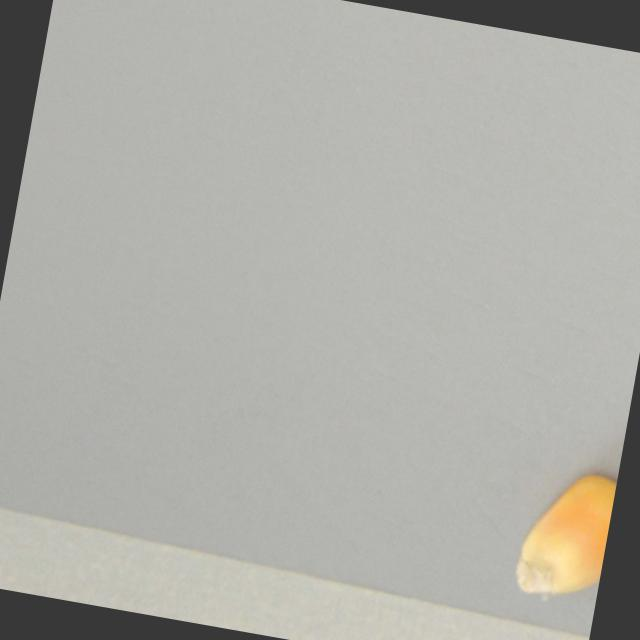entero: (505, 459, 618, 612)
